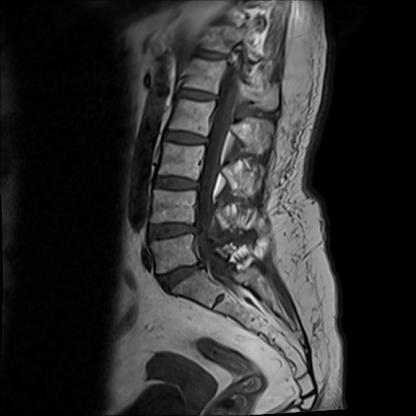Disc Bulgerotation: (157, 264, 208, 287), (151, 222, 196, 239)
